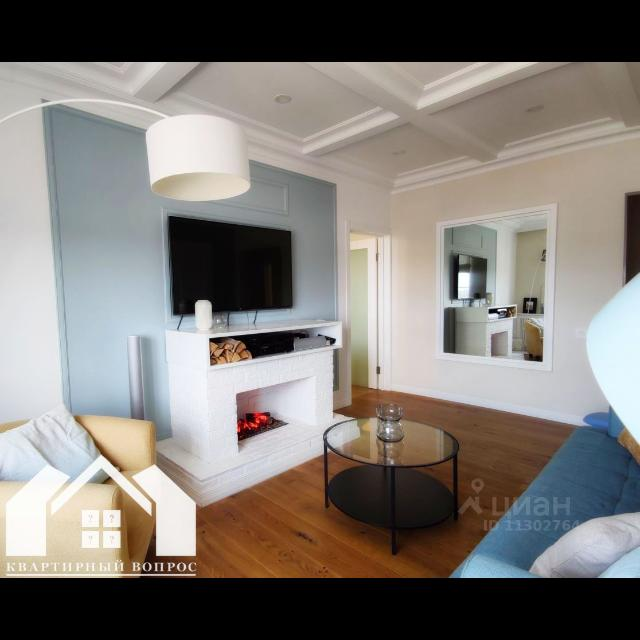Flat-Panel-TV: (167, 213, 296, 311)
